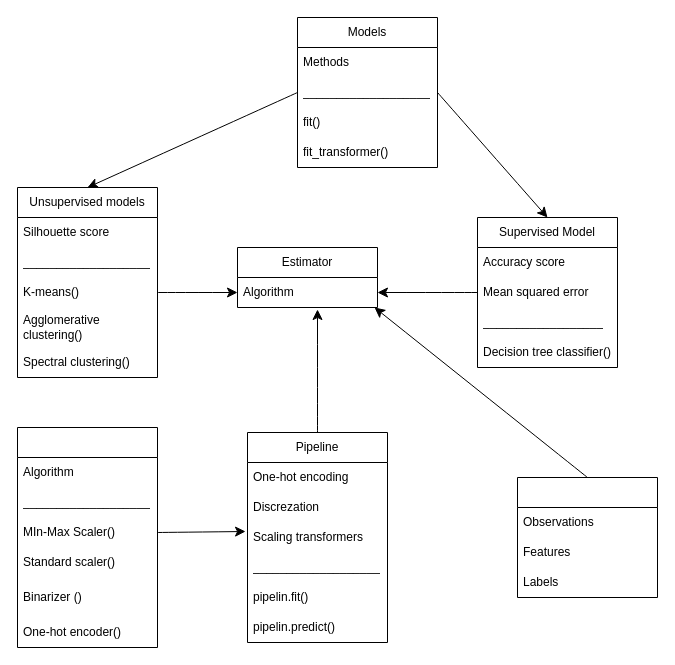
Some shapes in this 675 by 665 pixel diagram are drawn without their labels. Here are the shapes that lost their labels. From the top down, the box of each, then its label:
(16, 426, 158, 648): Transformers
(516, 476, 658, 598): Dataset
